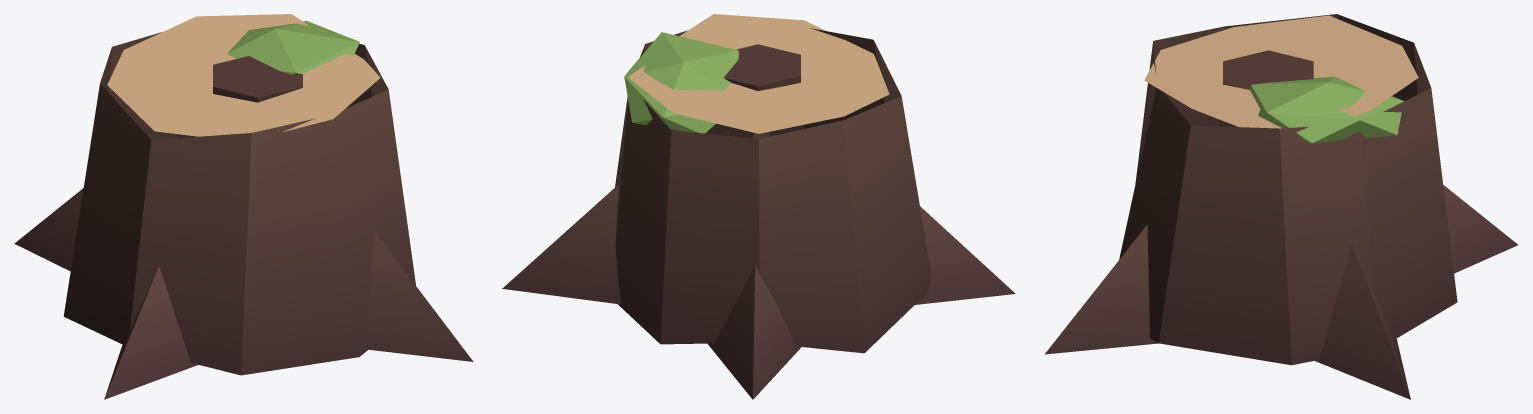
The model's file is stump.glb.
3 renders of one model, left to right at view 1: azimuth 30°, elevation 25°; view 2: azimuth 150°, elevation 25°; view 3: azimuth 270°, elevation 25°, orthographic. The views are drawn at different scales.
Visible parts, largest first — view 1: stump; view 2: stump; view 3: stump.
Boxes of the visible parts, x1,y1,x2,y2 form: stump: [14, 14, 473, 399]; stump: [502, 14, 1015, 399]; stump: [1044, 14, 1517, 399].
Bounding box in the file's own units: 1.09 × 0.629 × 1.09.
